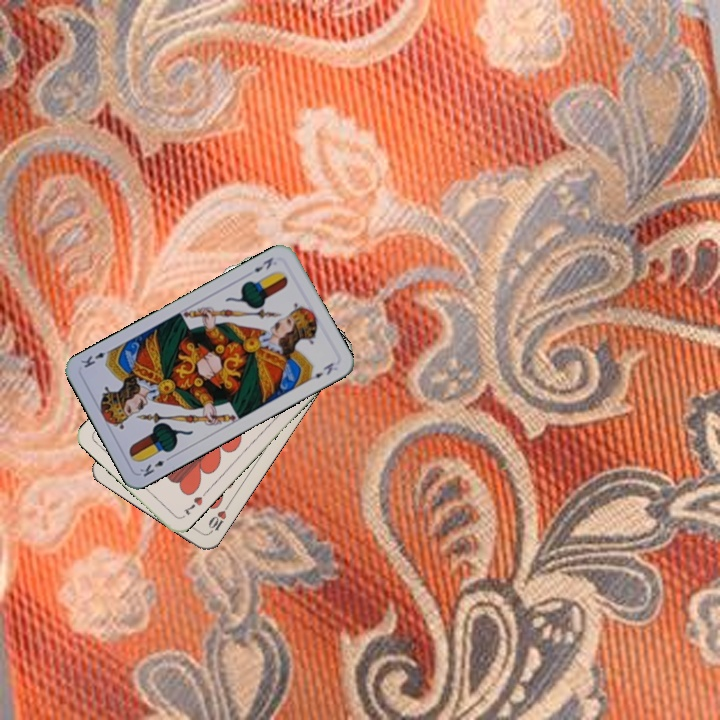EK: (136, 452, 175, 480), (250, 253, 276, 275)
H10: (204, 500, 232, 536)
H7: (179, 492, 205, 518)
